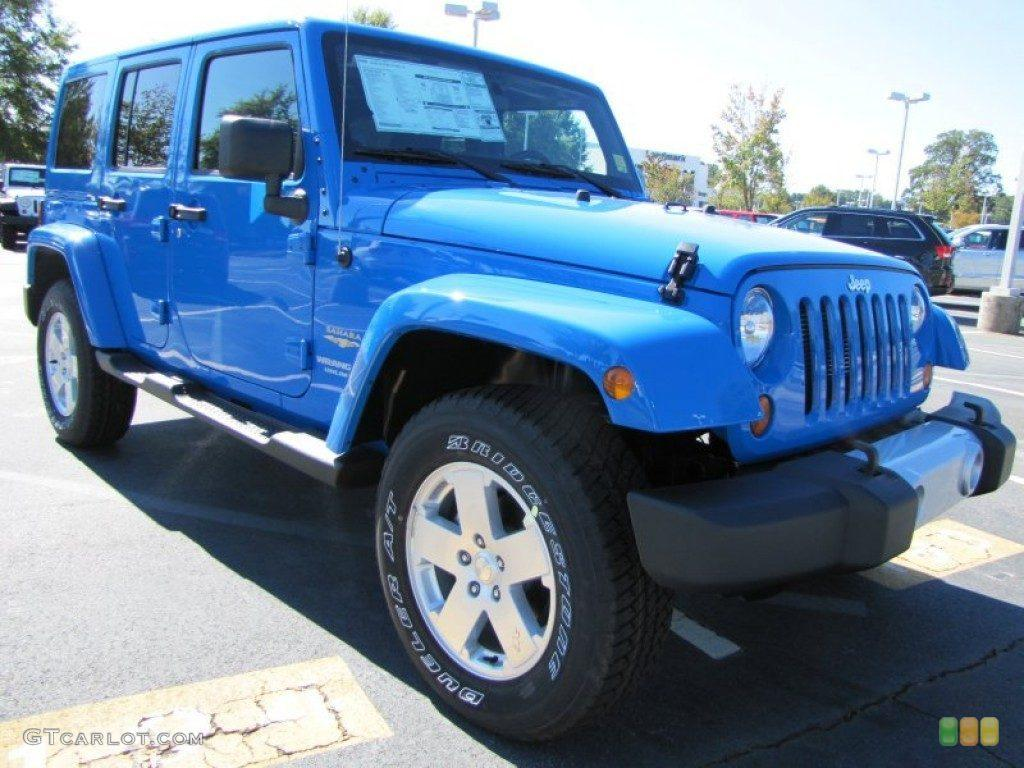jeep: (822, 262, 900, 318)
